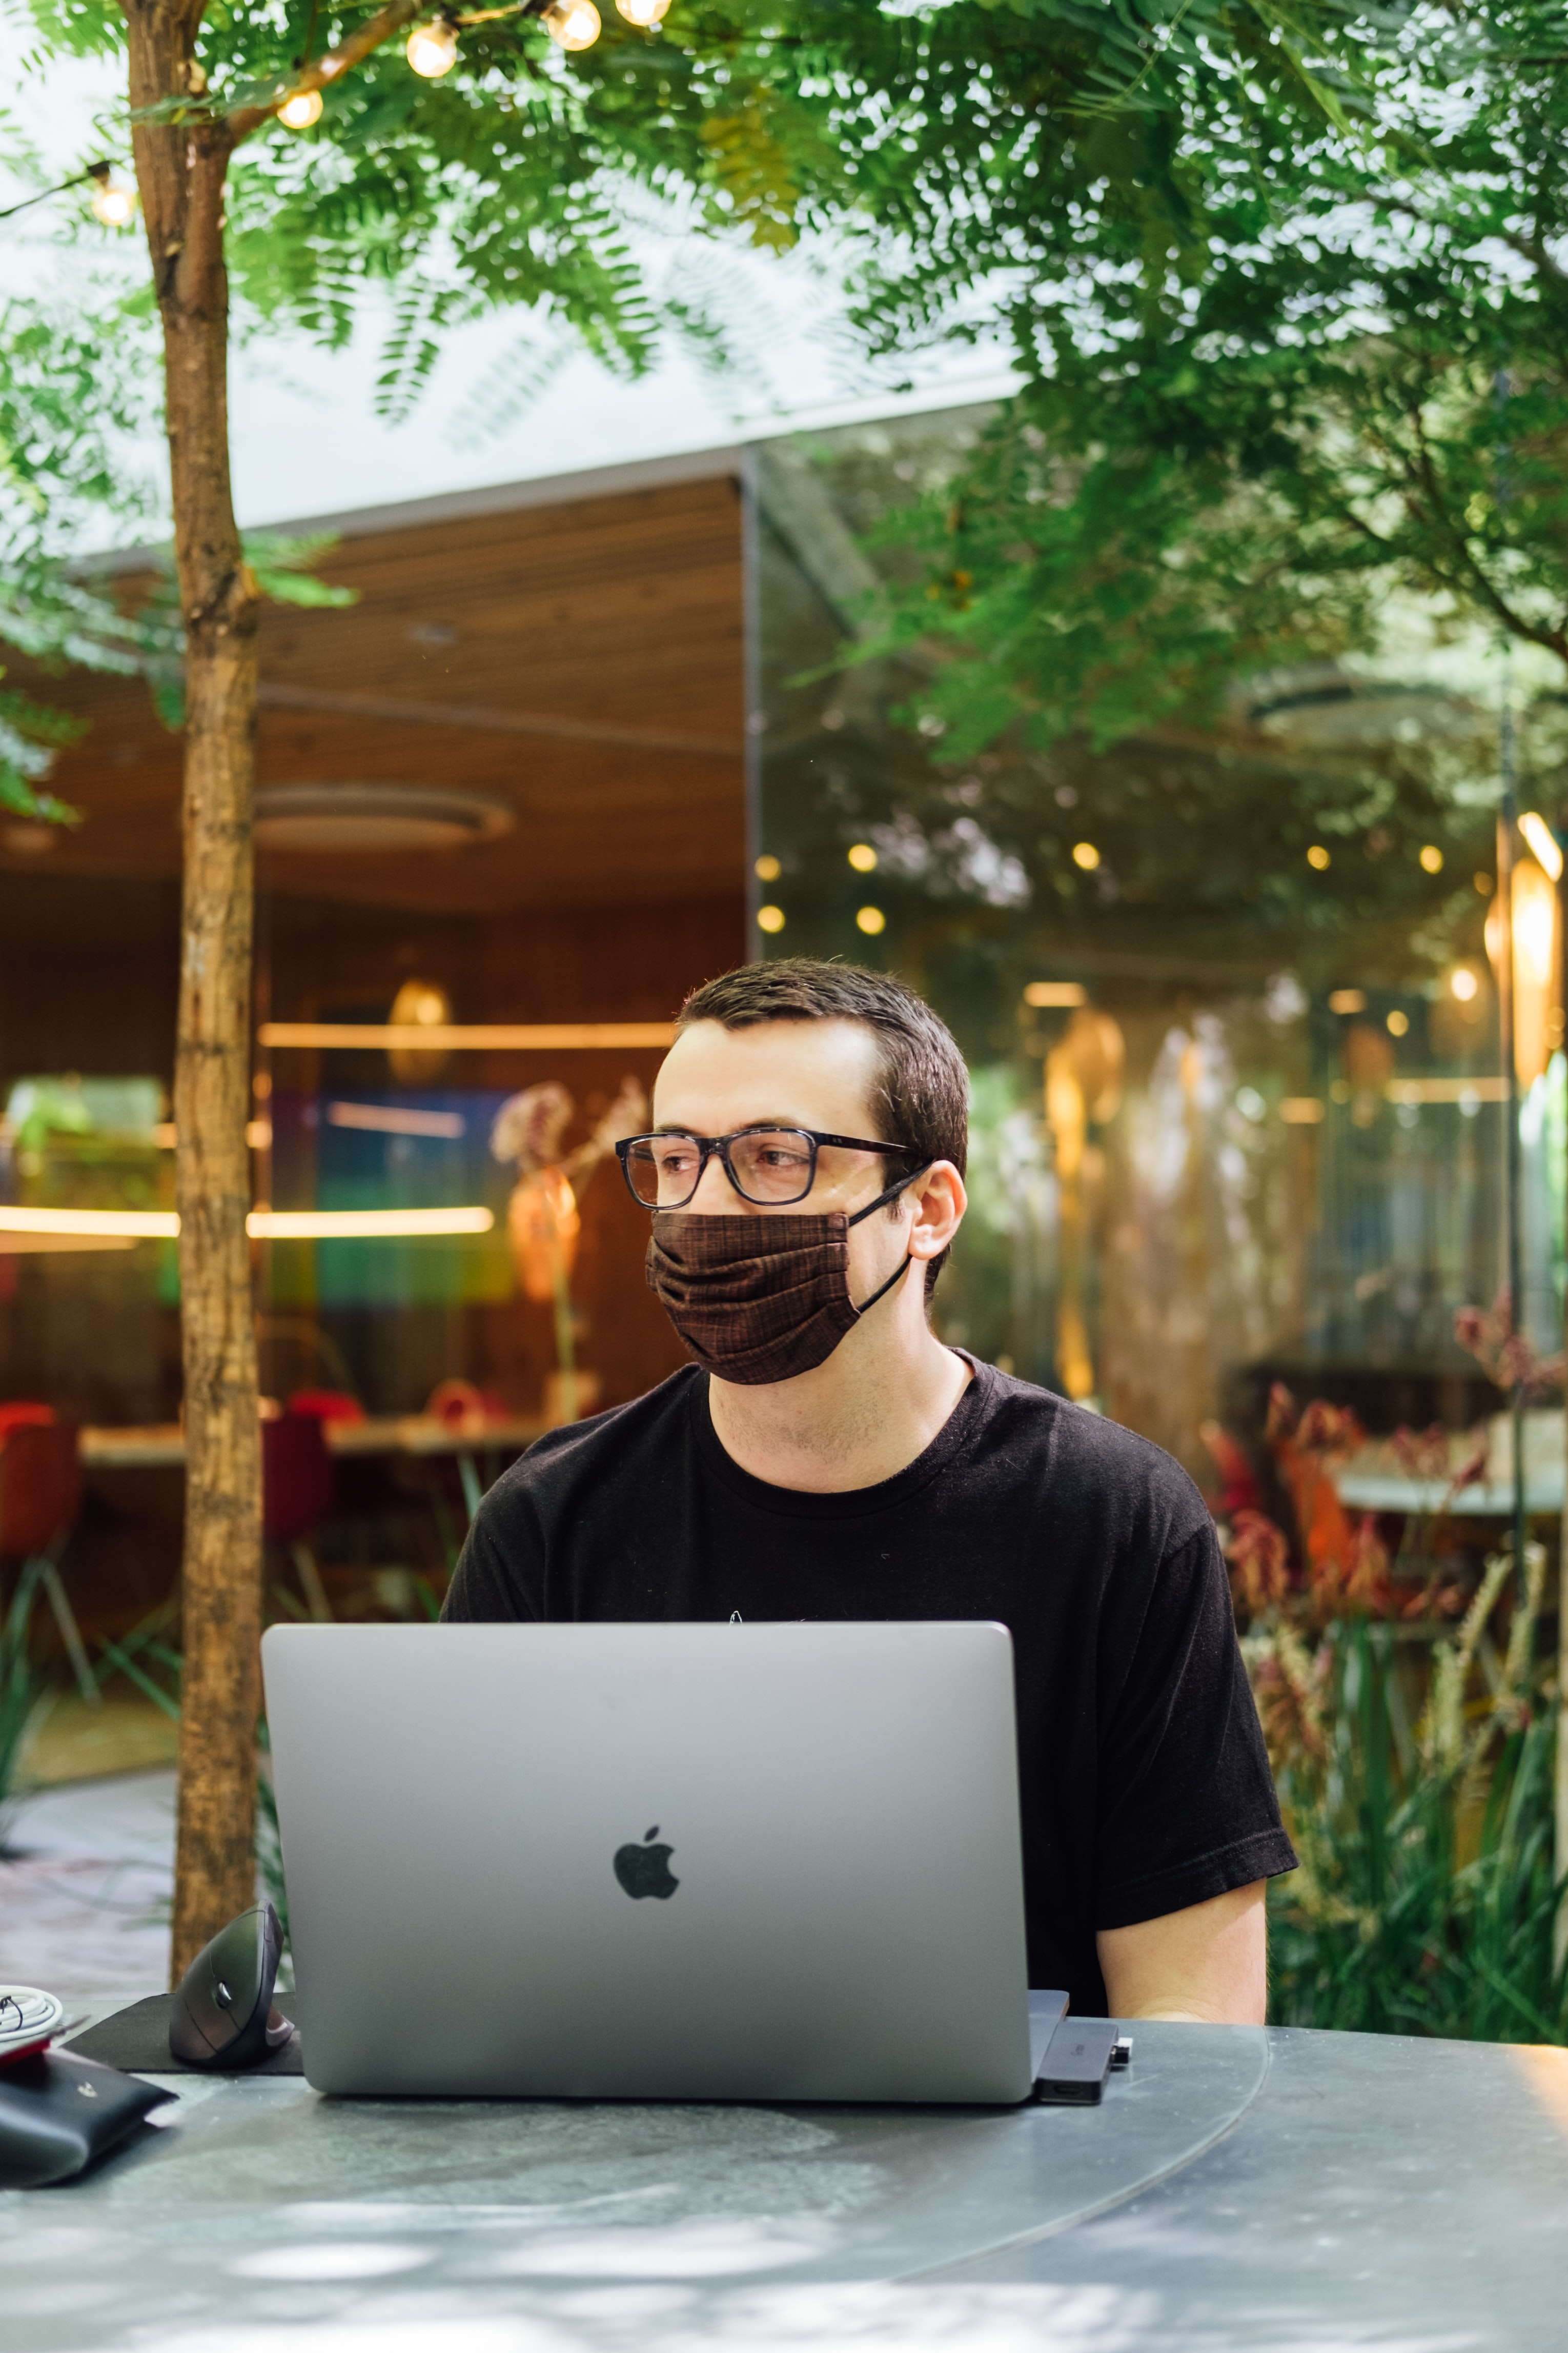mask: (619, 1210, 878, 1391)
person: (320, 932, 1294, 2020)
